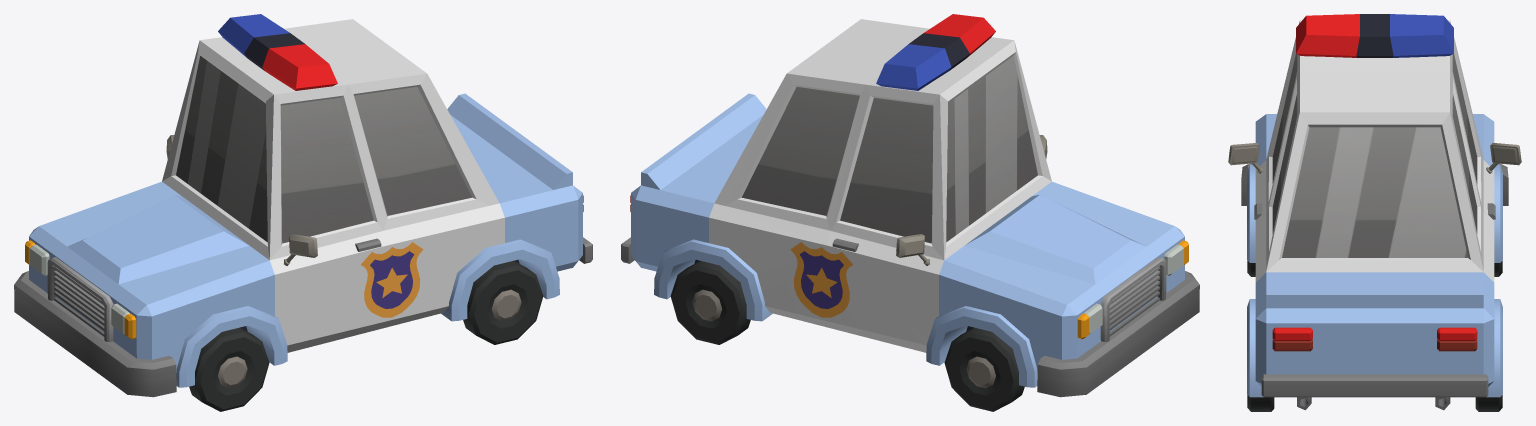
File: Car_Police_3_1_B.fbx
3 views of the same model, side by side, from view 1: azimuth 30°, elevation 25°; view 2: azimuth 150°, elevation 25°; view 3: azimuth 270°, elevation 25° (orthographic).
Visible parts, largest first — view 1: Car_Police_3_1_B, RL, FL; view 2: Car_Police_3_1_B, RR, FR; view 3: Car_Police_3_1_B, RL, RR.
Boxes of the visible parts, <box> form: Car_Police_3_1_B: <box>14,14,592,397</box>; RL: <box>463,261,543,344</box>; FL: <box>189,327,269,411</box>; Car_Police_3_1_B: <box>621,14,1199,397</box>; RR: <box>670,261,750,344</box>; FR: <box>944,327,1024,411</box>; Car_Police_3_1_B: <box>1228,14,1521,410</box>; RL: <box>1247,395,1274,411</box>; RR: <box>1475,395,1502,411</box>.
Bounding box in the file's own units: 3.31 × 2.02 × 1.78.
